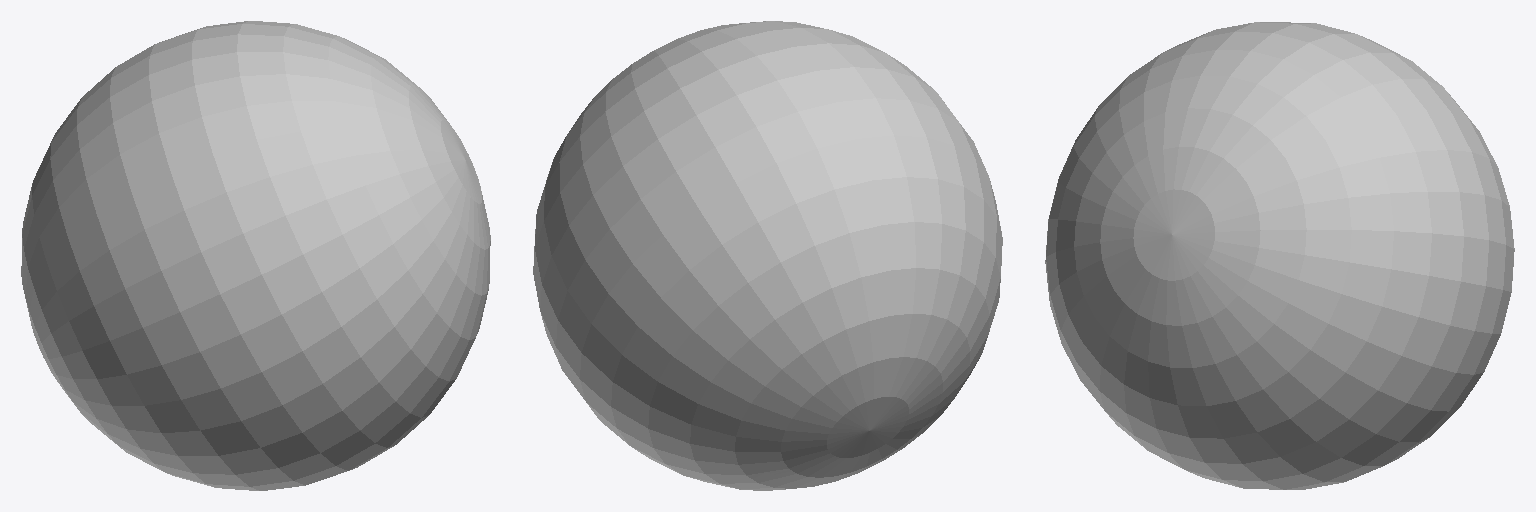
The model's file is bom.obj.
3 renders of one model, left to right at view 1: azimuth 30°, elevation 25°; view 2: azimuth 150°, elevation 25°; view 3: azimuth 270°, elevation 25°, orthographic.
Visible parts, largest first — view 1: Sphere; view 2: Sphere; view 3: Sphere.
Boxes of the visible parts, x1=… form: Sphere: x1=21, y1=21, x2=490, y2=490; Sphere: x1=533, y1=21, x2=1002, y2=490; Sphere: x1=1045, y1=22, x2=1514, y2=489.
Size of the model in its own units: 36.24 by 36.15 by 36.26.